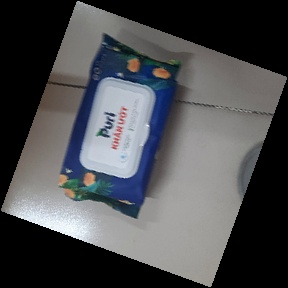Puri Xanh: (57, 32, 182, 220)
